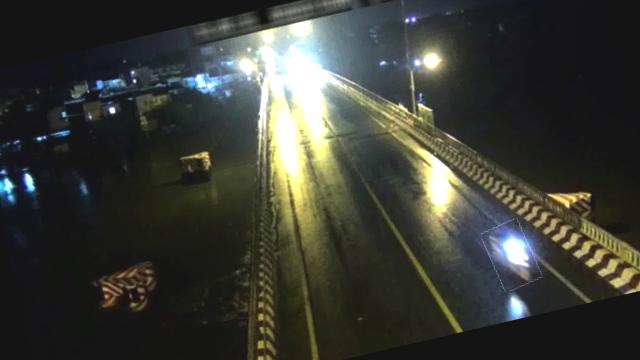Bike: (482, 218, 541, 292)
